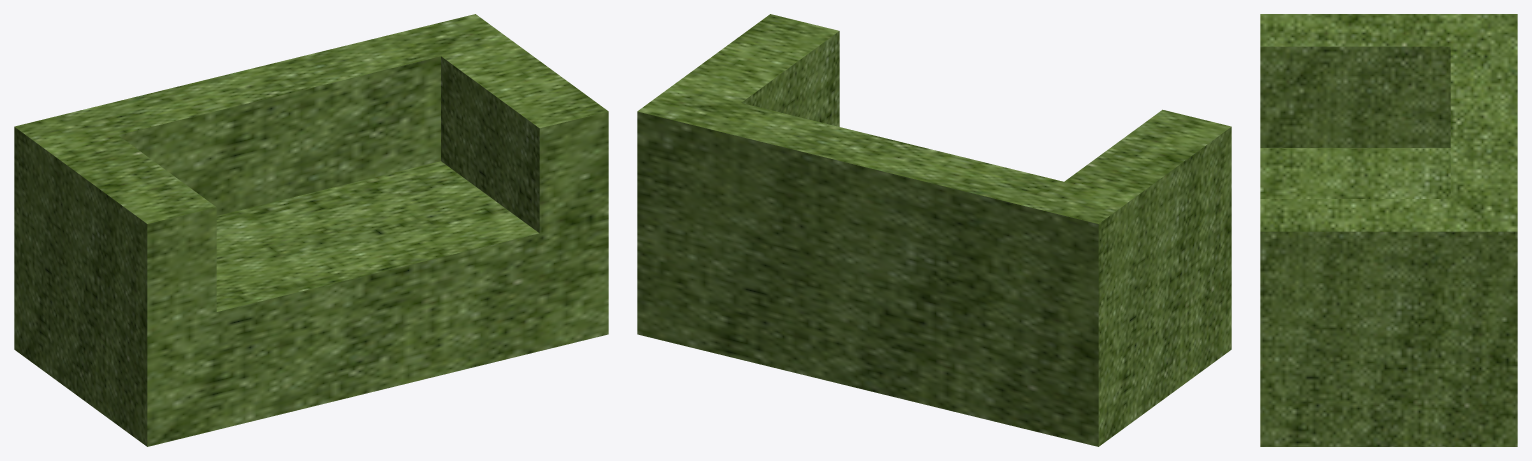
Rendered from sofa.obj.
The picture shows the model from 3 angles, left to right: view 1: azimuth 30°, elevation 25°; view 2: azimuth 150°, elevation 25°; view 3: azimuth 270°, elevation 25°; orthographic projection. The views are drawn at different scales.
Parts seen in each view (by area): view 1: Cube.001; view 2: Cube.001; view 3: Cube.001.
Boxes of the visible parts, x1,y1,x2,y2 form: Cube.001: (14,14,608,446); Cube.001: (637,14,1231,446); Cube.001: (1260,14,1517,446).
Bounding box in the file's own units: 4 × 1.85 × 2.
